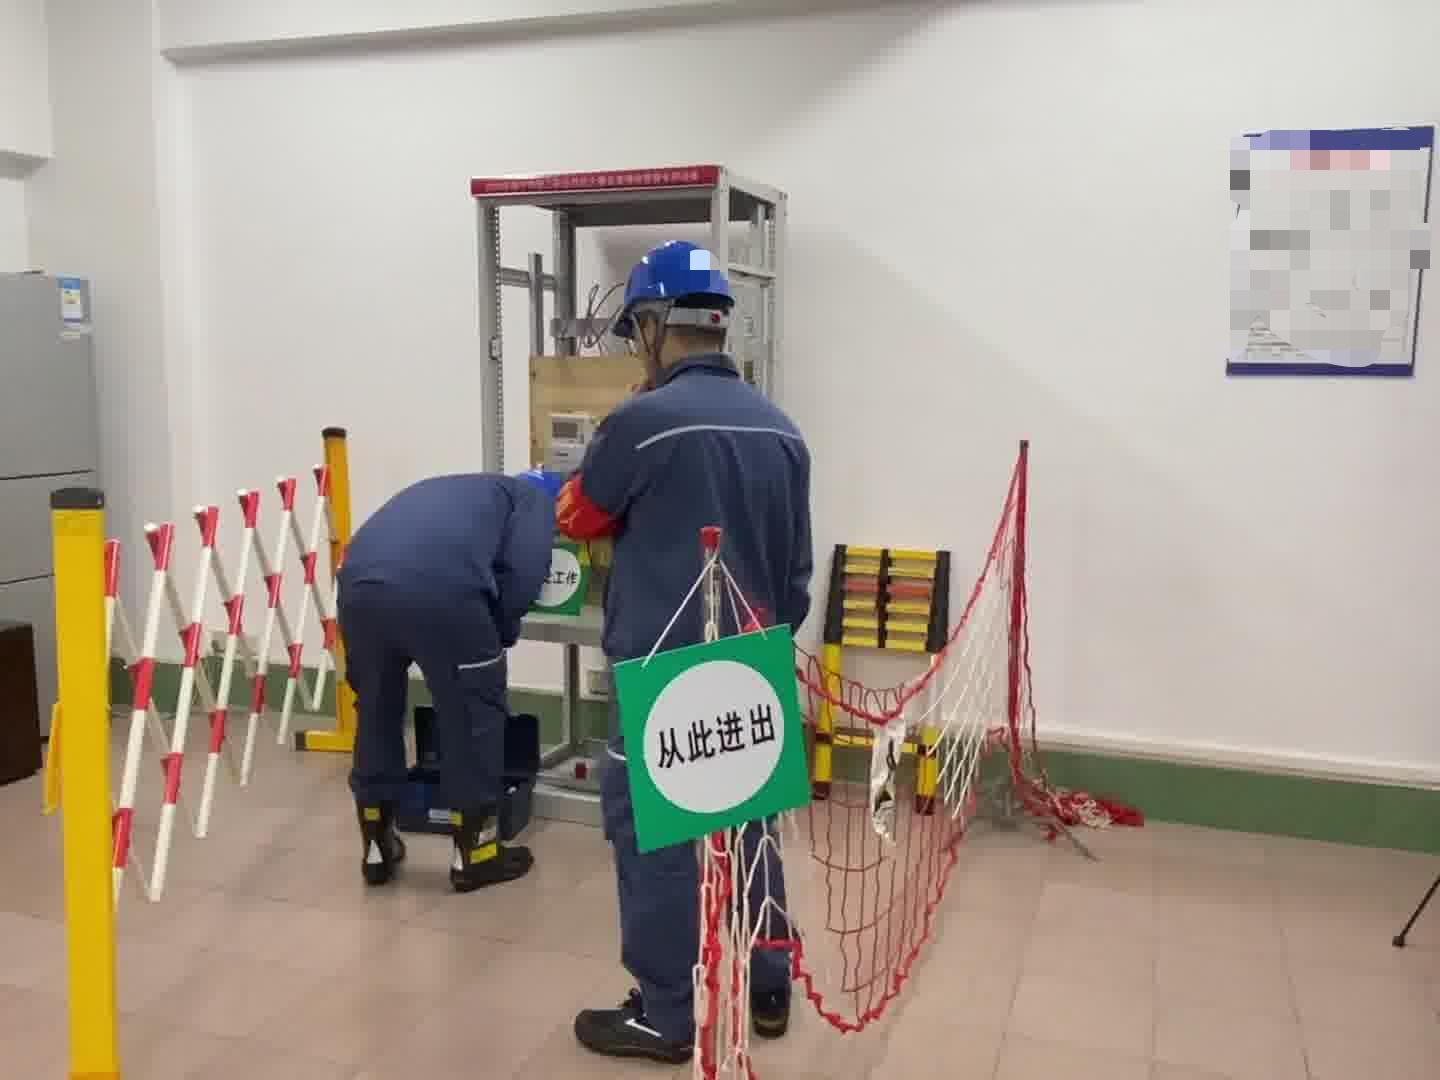halt: (620, 243, 743, 369)
inear: (632, 307, 674, 365)
